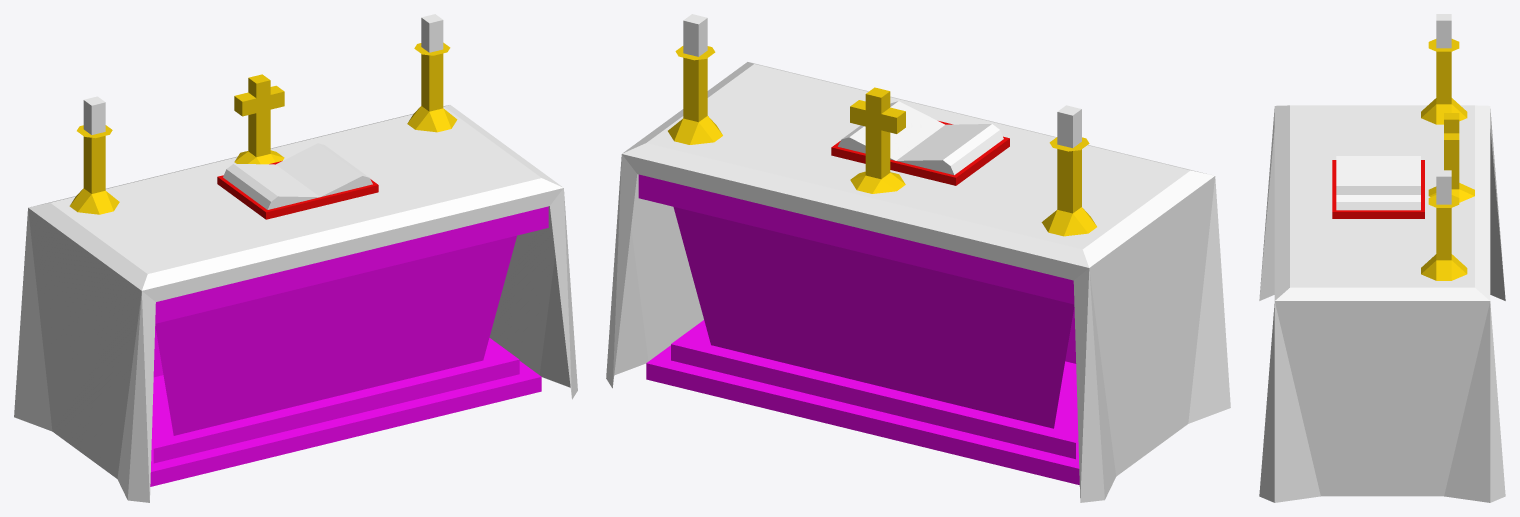
The model's file is altar.obj.
3 renders of one model, left to right at view 1: azimuth 30°, elevation 25°; view 2: azimuth 150°, elevation 25°; view 3: azimuth 270°, elevation 25°, orthographic. The views are drawn at different scales.
Visible parts, largest first — view 1: altar_back, altar_front; view 2: altar_back, altar_front; view 3: altar_back, altar_front.
Boxes of the visible parts, x1,y1,x2,y2 form: altar_back: [14, 74, 577, 502]; altar_front: [69, 14, 548, 486]; altar_back: [606, 62, 1230, 502]; altar_front: [638, 14, 1096, 484]; altar_back: [1259, 105, 1505, 502]; altar_front: [1421, 14, 1467, 280].
Bounding box in the file's own units: 2.56 × 1.74 × 1.28.
